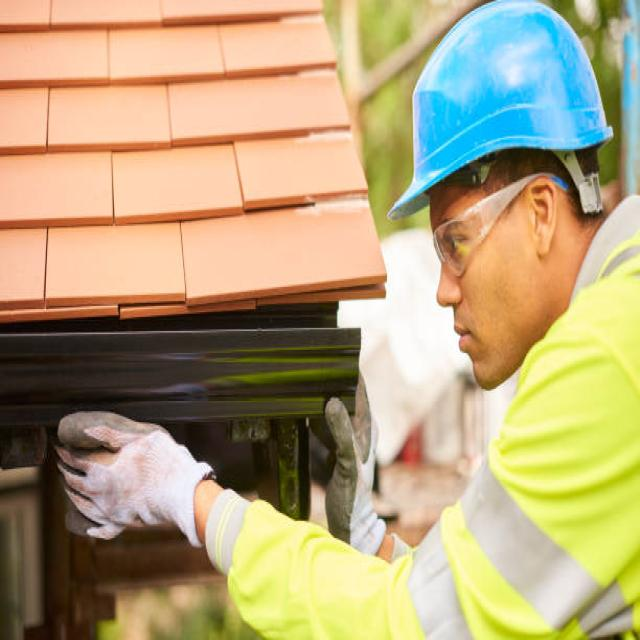gloves: (51, 405, 219, 546), (308, 372, 386, 569)
